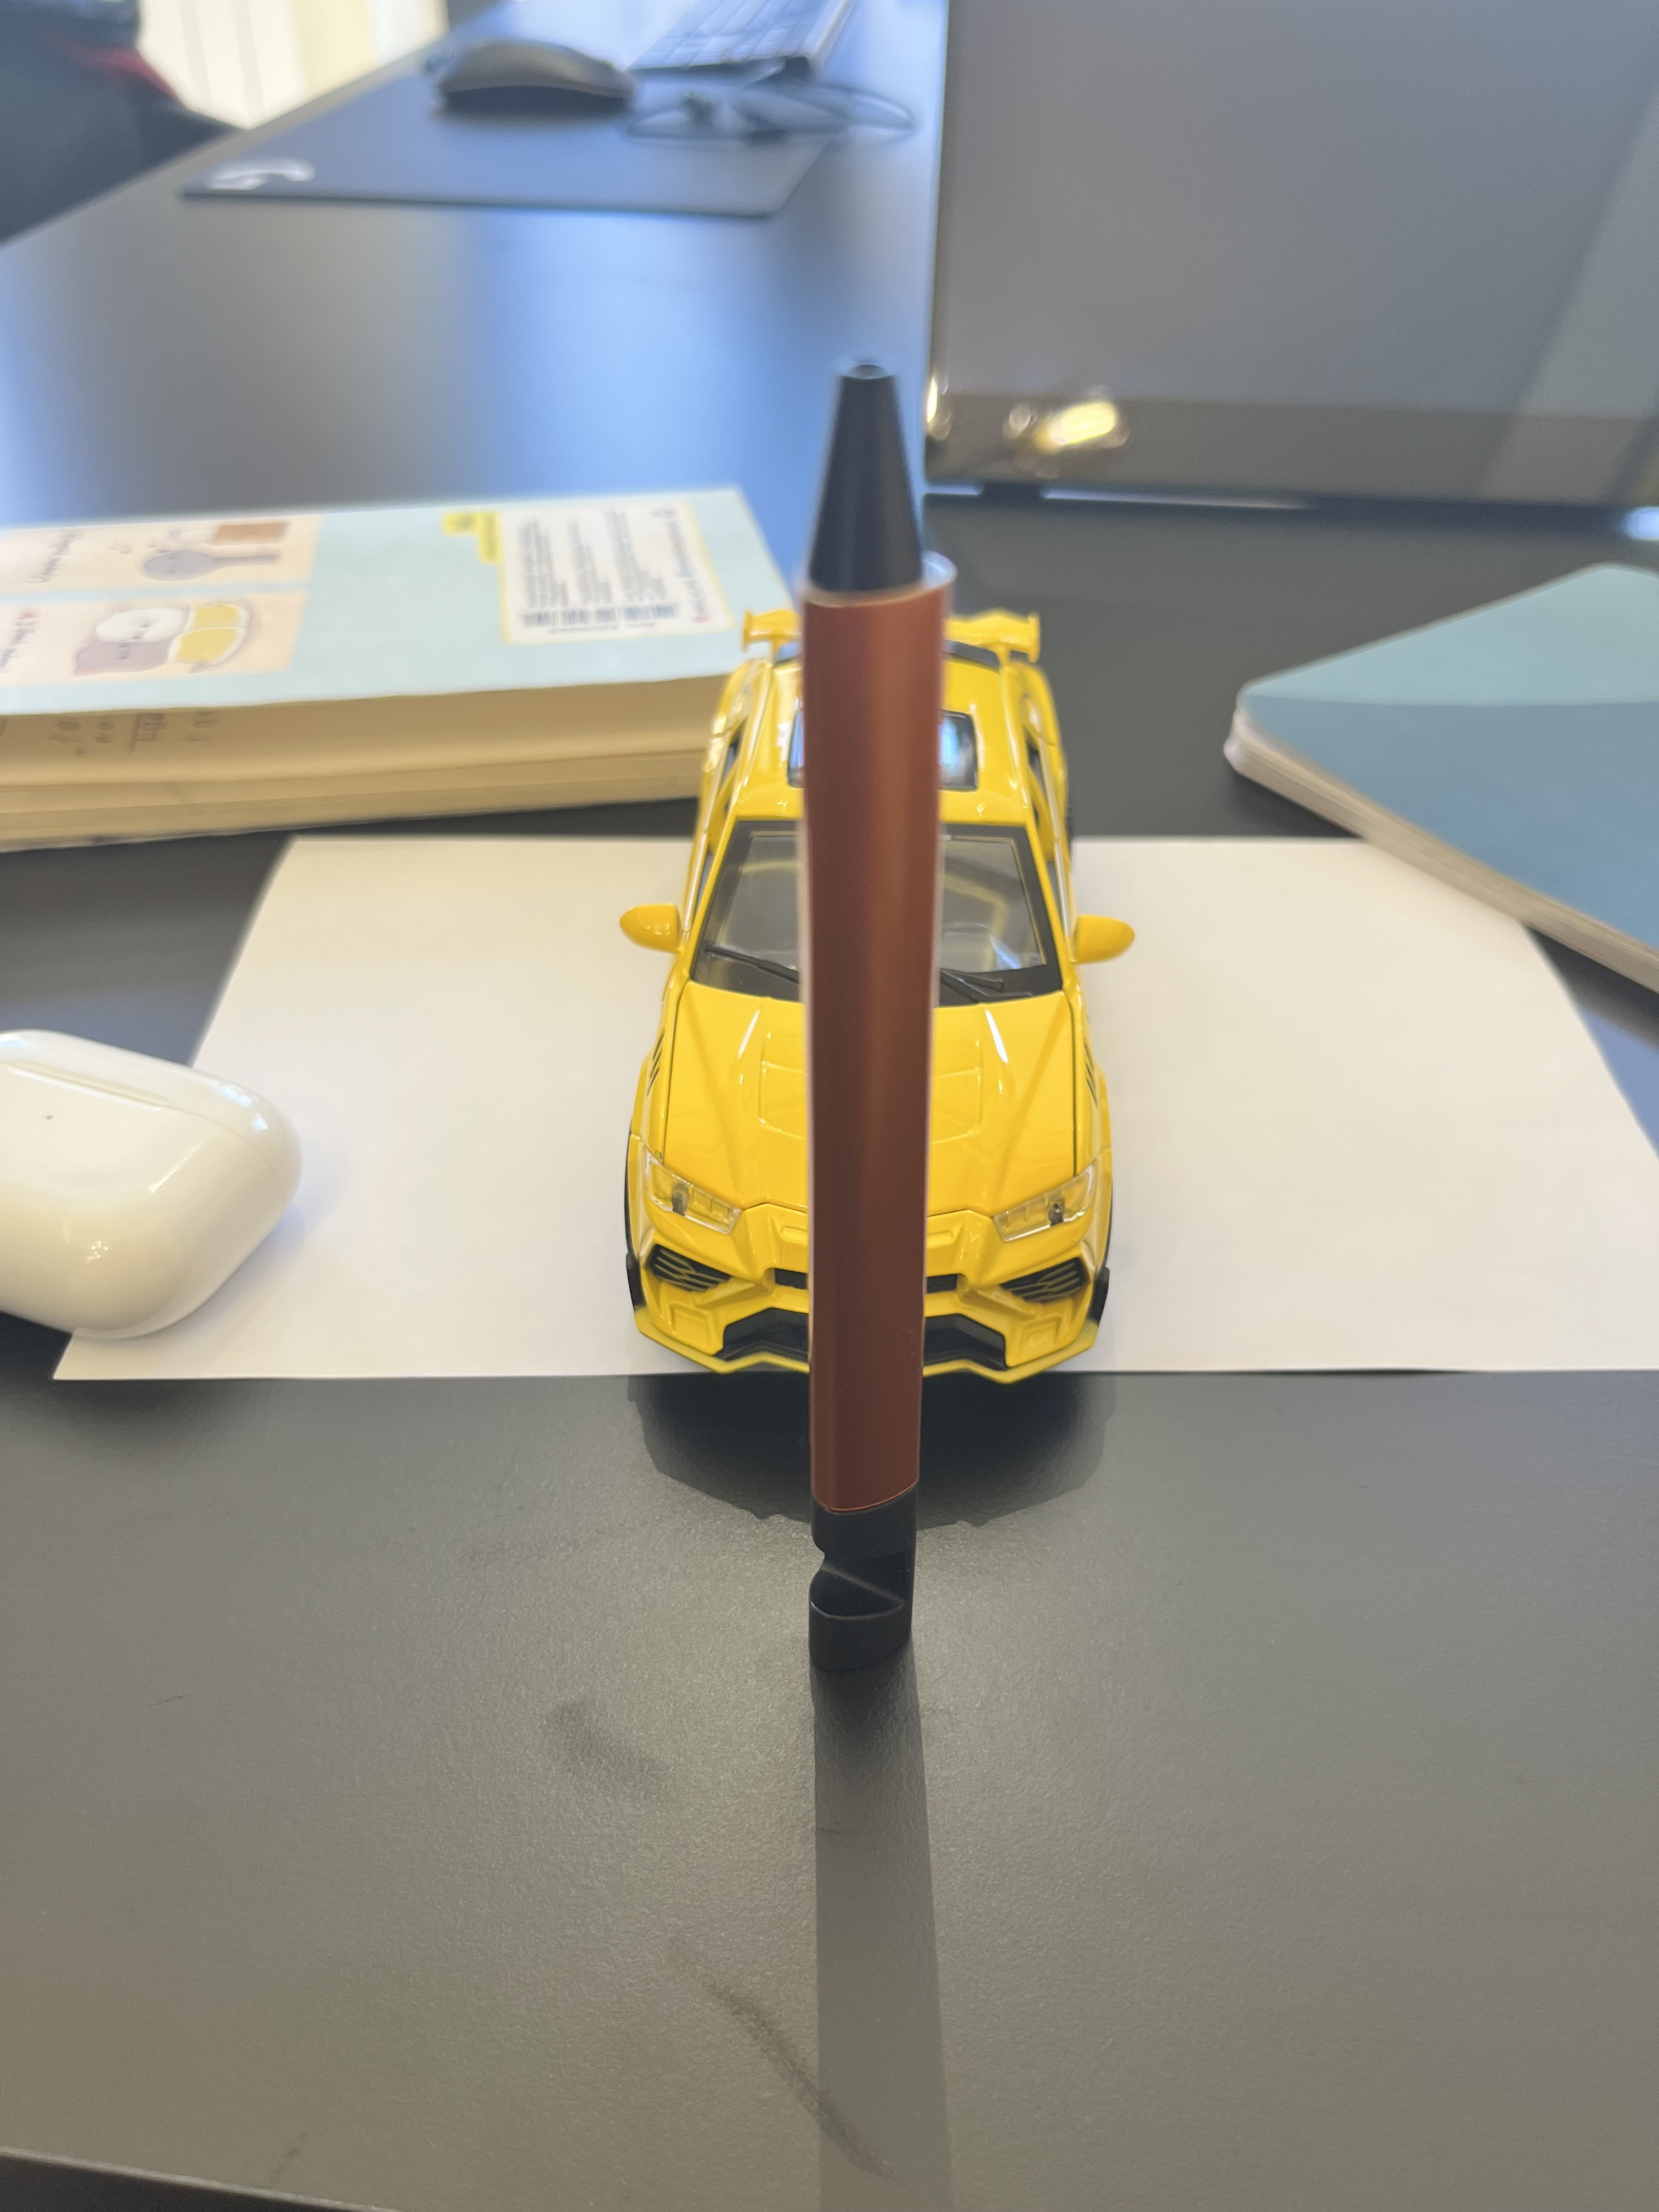lambo: (620, 603, 1129, 1378)
